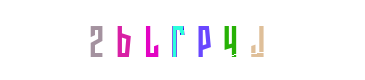2: (70, 0, 150, 80)
4: (177, 0, 257, 80)
B: (95, 0, 175, 80)
J: (190, 0, 270, 80)
L: (136, 0, 216, 80)
P: (157, 0, 237, 80)
R: (142, 0, 222, 80)
